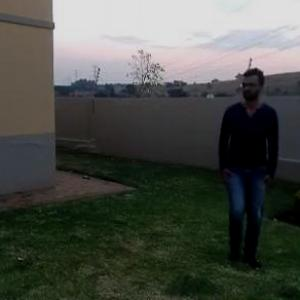follow: (212, 64, 266, 256)
